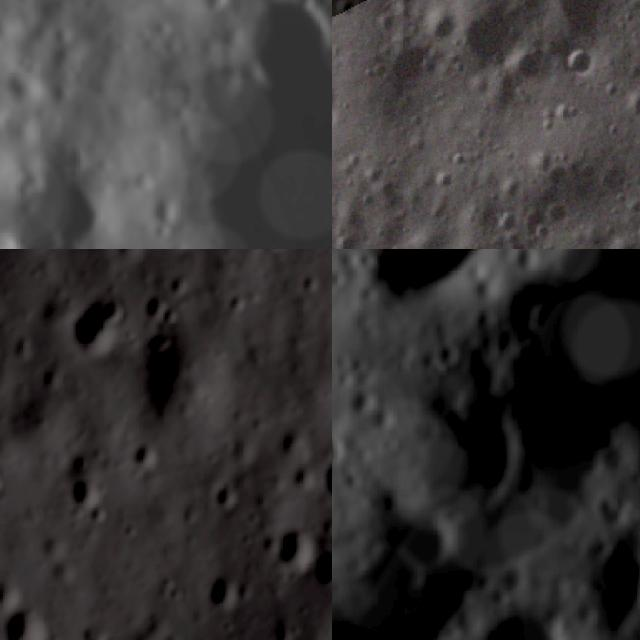crater: (116, 0, 332, 249), (361, 346, 565, 558), (332, 249, 532, 336), (546, 510, 640, 640), (23, 144, 132, 249), (453, 586, 590, 640), (58, 288, 135, 370), (452, 5, 523, 86), (380, 34, 438, 104), (266, 520, 316, 586), (501, 40, 552, 90), (0, 600, 59, 640), (65, 470, 110, 520), (0, 124, 22, 213), (558, 42, 600, 88), (421, 6, 460, 53), (332, 420, 359, 486), (0, 560, 26, 623), (128, 435, 165, 478), (537, 197, 575, 237), (137, 330, 175, 368), (210, 474, 242, 516), (492, 171, 527, 208), (429, 164, 463, 198), (538, 162, 571, 196), (488, 207, 521, 240), (313, 455, 332, 506), (369, 8, 400, 37), (528, 216, 556, 247), (155, 302, 183, 331), (0, 459, 16, 508), (226, 290, 250, 322), (332, 226, 365, 249), (296, 274, 322, 302), (167, 270, 190, 298), (332, 76, 344, 125), (630, 56, 640, 91)
